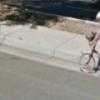bicycles: (80, 30, 100, 75)
